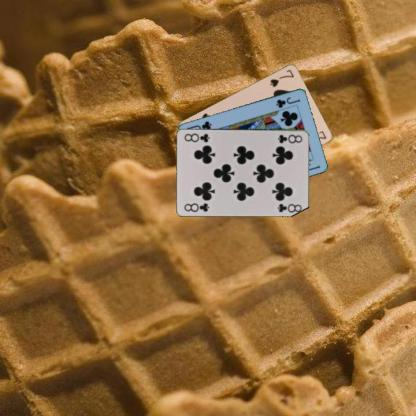7s: (268, 66, 295, 88)
8c: (182, 200, 210, 213), (275, 132, 303, 144)
Jc: (274, 94, 301, 109)
